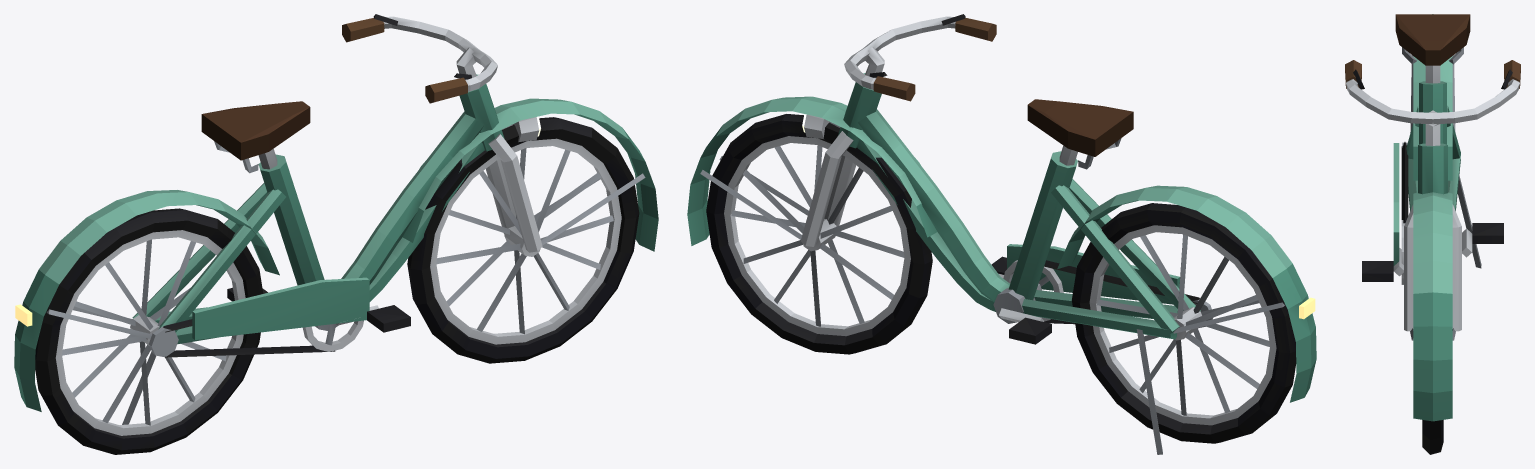
File: mt_bicycle_mint.glb
The picture shows the model from 3 angles, left to right: view 1: azimuth 30°, elevation 25°; view 2: azimuth 150°, elevation 25°; view 3: azimuth 270°, elevation 25°; orthographic projection. The views are drawn at different scales.
Visible parts, largest first — view 1: base, wheelF_m, wheelR_m, bars_m, crank_m; view 2: base, wheelR_m, wheelF_m, bars_m, crank_m; view 3: base, bars_m, crank_m, wheelF_m.
Part boxes in pixels (x1,y1,x2,y2): base: (14, 74, 658, 424); wheelF_m: (407, 117, 639, 363); wheelR_m: (35, 208, 263, 454); bars_m: (342, 14, 497, 103); crank_m: (227, 287, 410, 351); base: (687, 73, 1316, 454); wheelR_m: (1071, 203, 1296, 443); wheelF_m: (706, 114, 932, 354); bars_m: (844, 14, 996, 101); crank_m: (991, 256, 1063, 344); base: (1393, 14, 1481, 421); bars_m: (1345, 60, 1520, 145); crank_m: (1362, 220, 1503, 284); wheelF_m: (1422, 420, 1443, 454).
Size of the model in its own units: 0.745 by 0.3844 by 0.1882.
